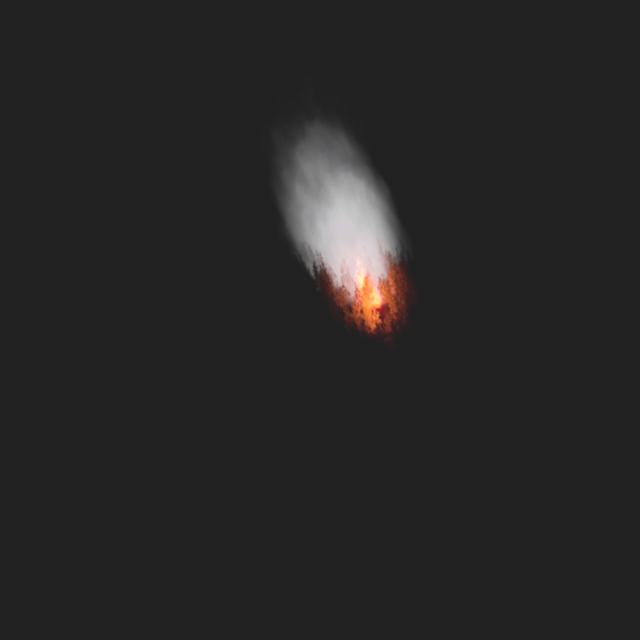fire: (346, 252, 386, 314)
smoke: (250, 93, 422, 319)
